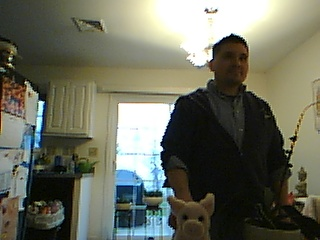piggy: (166, 191, 217, 240)
